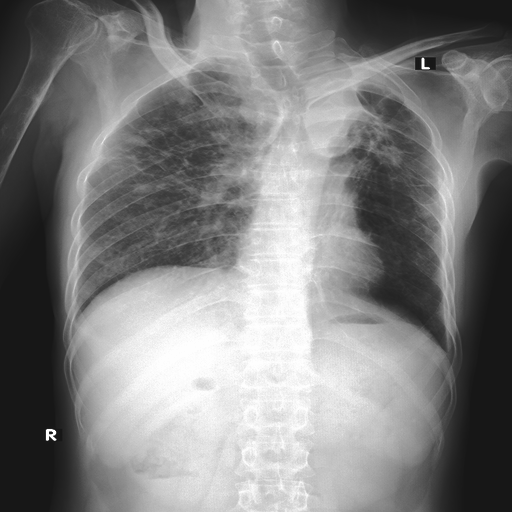Calcification: (300, 62, 415, 148)
ILD: (104, 87, 260, 207)
Infiltration: (336, 83, 434, 188), (304, 58, 411, 136)
Pneumothorax: (104, 87, 260, 207), (336, 83, 434, 188)
